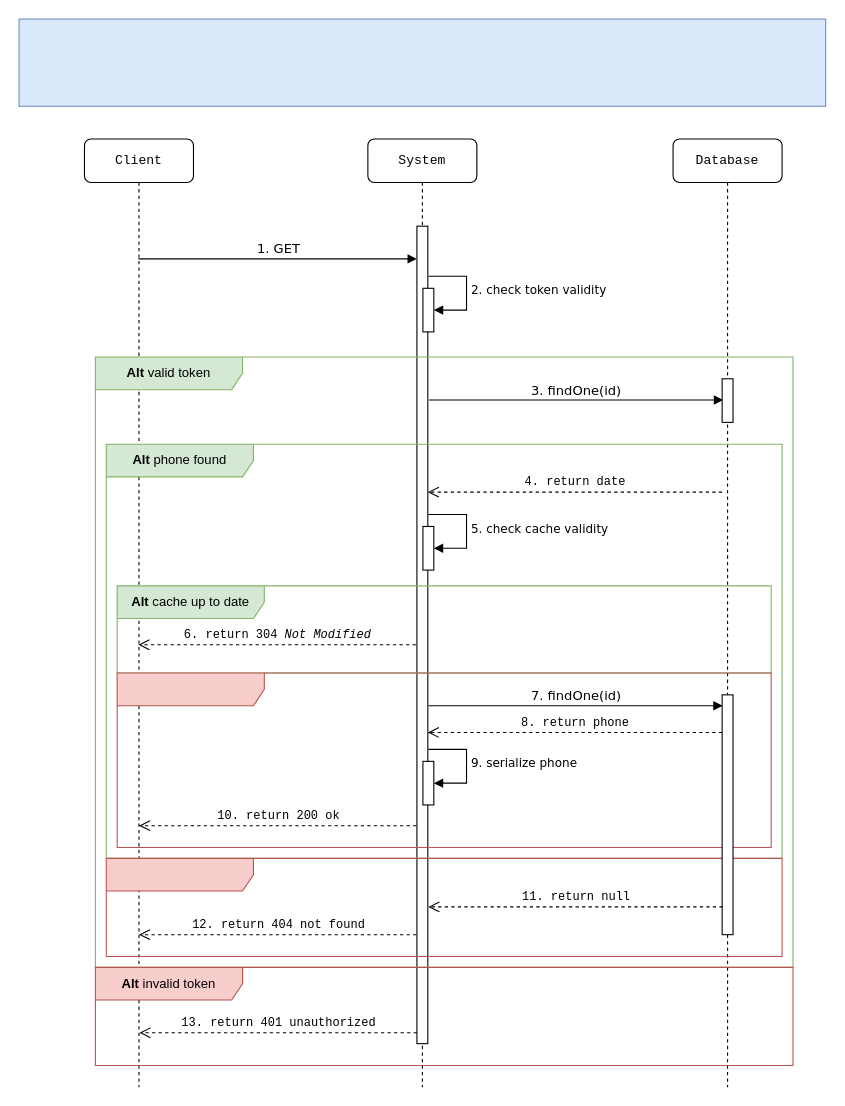
The diagram is 845 pixels wide and 1106 high, and some of its shapes have lost their labels. Each missing label, with the centre of its shape:
"Alt cache expired" belongs at (443,759).
"Alt phone not found" belongs at (443,906).
"REST API UML Sequence Diagram - Read Phone: GET /api/phones/{id}" belongs at (422,62).
